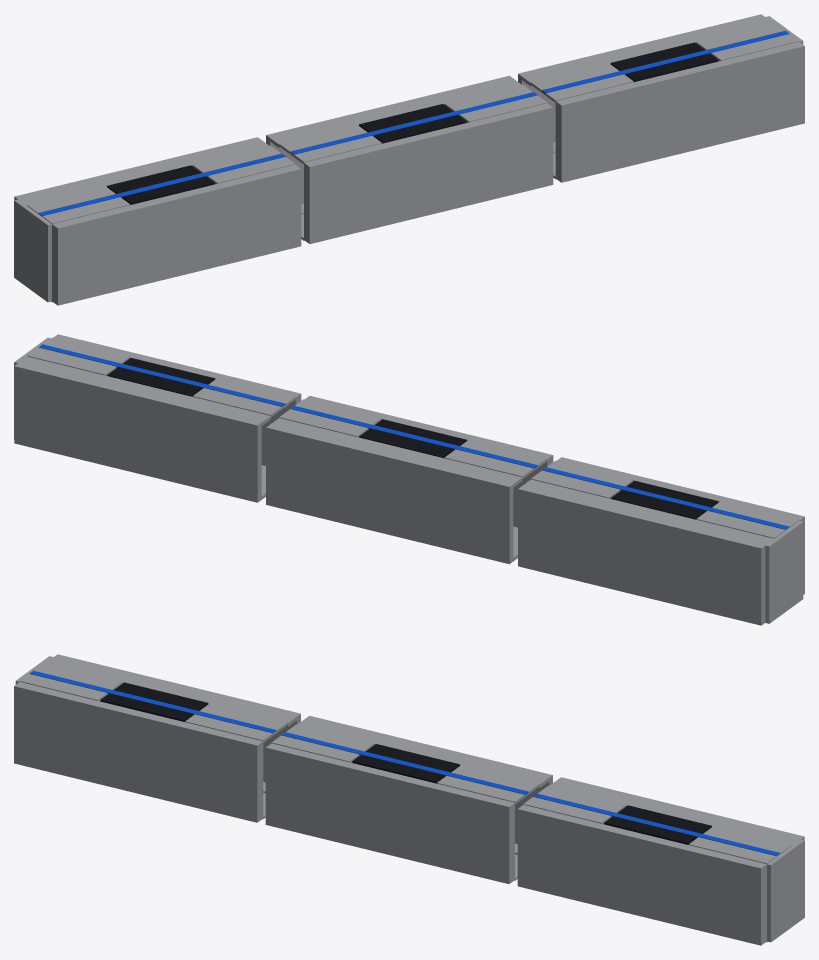
Rendered from metro_train_blue_closed.obj.
3 renders of one model, top to bottom at view 1: azimuth 30°, elevation 25°; view 2: azimuth 150°, elevation 25°; view 3: azimuth 330°, elevation 25°, orthographic.
Parts seen in each view (by area): view 1: metro_train_blue_closed; view 2: metro_train_blue_closed; view 3: metro_train_blue_closed.
Part boxes in pixels (<box>): metro_train_blue_closed: <box>14,14,804,305</box>; metro_train_blue_closed: <box>14,334,804,625</box>; metro_train_blue_closed: <box>14,654,804,945</box>.
Size of the model in its own units: 9 by 0.91 by 0.9.
